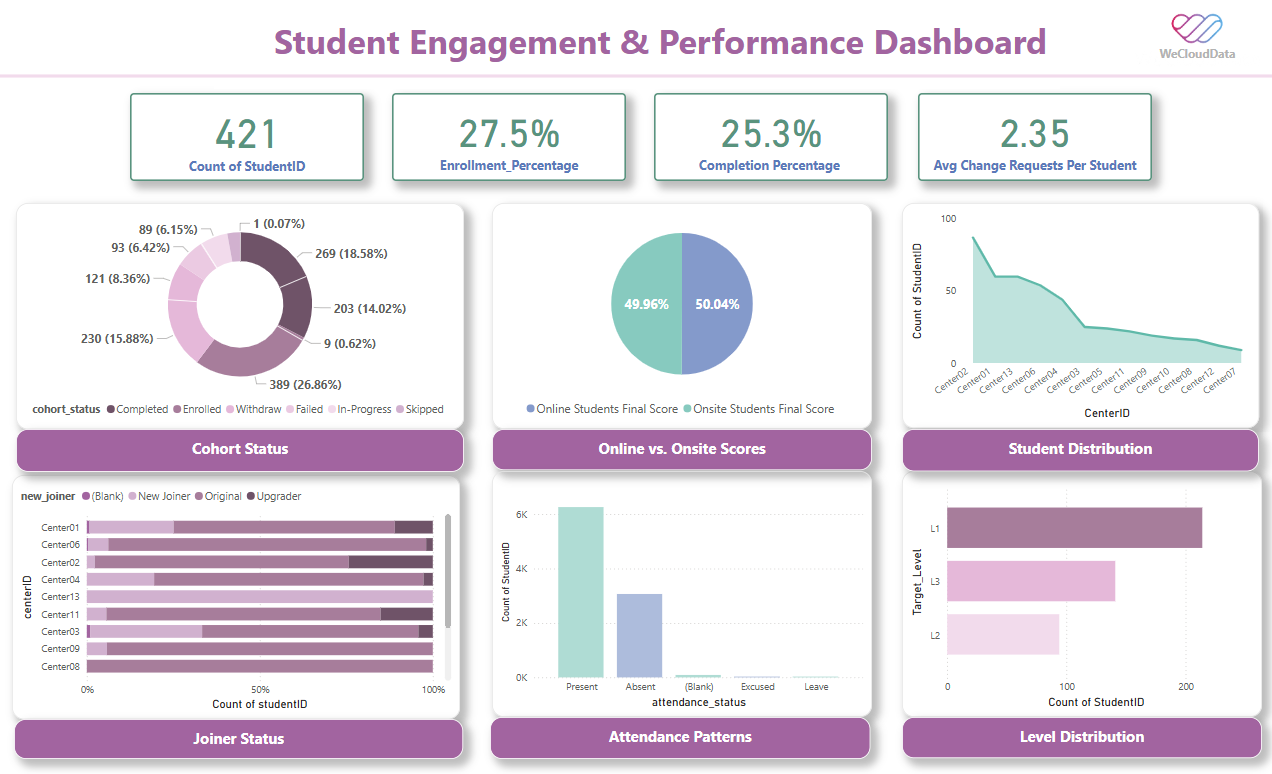

The page's visual inventory and layout, read from the dashboard file:
{"tool":"powerbi","page":{"name":"Cohort Enrollment & Completion Status","canvas":[1326,1032],"ordinal":2},"visuals":[{"type":"shape","box":[46.8,116.9,1221.9,65.9],"z":0},{"type":"slicer","fields":{"Values":["centers.CenterID"]},"box":[417.9,122.1,132.4,47.6],"z":1000},{"type":"textbox","box":[302,128.3,132.4,41.4],"z":2000},{"type":"slicer","fields":{"Values":["cleaned_cohort_assignment.level"]},"box":[657.9,124.1,134.5,49.7],"z":3000},{"type":"textbox","box":[550.3,128.3,113.8,43.4],"z":4000},{"type":"textbox","box":[773.7,130.3,140.7,39.3],"z":5000},{"type":"image","title":"rest","box":[1166.8,130.3,82.8,39.3],"z":6000},{"type":"textbox","box":[1048.9,130.3,138.6,41.4],"z":7000},{"type":"shape","box":[16.6,95.2,1293,12.4],"z":8000},{"type":"image","box":[1104.7,0,204.8,95.2],"z":9000},{"type":"textbox","box":[30.4,39.1,762,63],"z":10000},{"type":"slicer","fields":{"Values":["cleaned_cohort_assignment.cohort"]},"box":[182.1,124.1,134.5,49.7],"z":11000},{"type":"textbox","box":[53.8,128.3,132.4,41.4],"z":12000},{"type":"slicer","fields":{"Values":["cleaned_cohort_assignment.end_date.Variation.Date Hierarchy.Year"]},"box":[895.8,124.1,138.6,49.7],"z":16000},{"type":"clusteredColumnChart","title":"Overall Cohort Status","fields":{"Y":["CountNonNull(cleaned_cohort_assignment.studentID)"],"Category":["cleaned_cohort_assignment.cohort_status","cleaned_cohort_assignment.cohort"]},"box":[49.7,581.3,1228.9,370.3],"z":17000},{"type":"clusteredBarChart","title":"Cohort Completion","fields":{"Category":["cleaned_cohort_assignment.cohort"],"Y":["centers.Program Completion Percentage"]},"box":[664.1,206.9,606.2,351.7],"z":18000},{"type":"clusteredColumnChart","title":"Level Completion","fields":{"Category":["cleaned_cohort_assignment.level"],"Y":["centers.Level Completion Percentage"]},"box":[302,206.9,335.1,351.7],"z":19000},{"type":"shape","box":[56.8,208.4,221,351.5],"z":20000},{"type":"card","fields":{"Values":["centers.Enrollment_Percentage"]},"box":[63.1,282,204.2,82.1],"z":21000},{"type":"card","title":"Completed The programs ","fields":{"Values":["centers.Completion Percentage"]},"box":[46.3,421,239.9,111.6],"z":22000},{"type":"shape","box":[147.3,225.2,33.7,56.8],"z":23000},{"type":"image","box":[134.7,212.6,80,82.1],"z":24000},{"type":"image","box":[86.3,324.1,157.9,153.6],"z":25000},{"type":"pageNavigator","box":[174.7,949.9,992.4,47],"z":26000}]}

Visuals, with their boxes on the page's 1326x1032 design canvas (x1, y1, x2, y2). These are canvas units, not pixel positions in the 1272x774 screenshot, which may show the page scaled, cropped or inside an application window:
shape: <region>47, 117, 1269, 183</region>
slicer - centers.CenterID: <region>418, 122, 550, 170</region>
textbox: <region>302, 128, 434, 170</region>
slicer - cleaned_cohort_assignment.level: <region>658, 124, 792, 174</region>
textbox: <region>550, 128, 664, 172</region>
textbox: <region>774, 130, 914, 170</region>
"rest" image: <region>1167, 130, 1250, 170</region>
textbox: <region>1049, 130, 1188, 172</region>
shape: <region>17, 95, 1310, 108</region>
image: <region>1105, 0, 1310, 95</region>
textbox: <region>30, 39, 792, 102</region>
slicer - cleaned_cohort_assignment.cohort: <region>182, 124, 317, 174</region>
textbox: <region>54, 128, 186, 170</region>
slicer - cleaned_cohort_assignment.end_date.Variation.Date Hierarchy.Year: <region>896, 124, 1034, 174</region>
"Overall Cohort Status" clusteredColumnChart: <region>50, 581, 1279, 952</region>
"Cohort Completion" clusteredBarChart: <region>664, 207, 1270, 559</region>
"Level Completion" clusteredColumnChart: <region>302, 207, 637, 559</region>
shape: <region>57, 208, 278, 560</region>
card - centers.Enrollment_Percentage: <region>63, 282, 267, 364</region>
"Completed The programs " card: <region>46, 421, 286, 533</region>
shape: <region>147, 225, 181, 282</region>
image: <region>135, 213, 215, 295</region>
image: <region>86, 324, 244, 478</region>
pageNavigator: <region>175, 950, 1167, 997</region>
